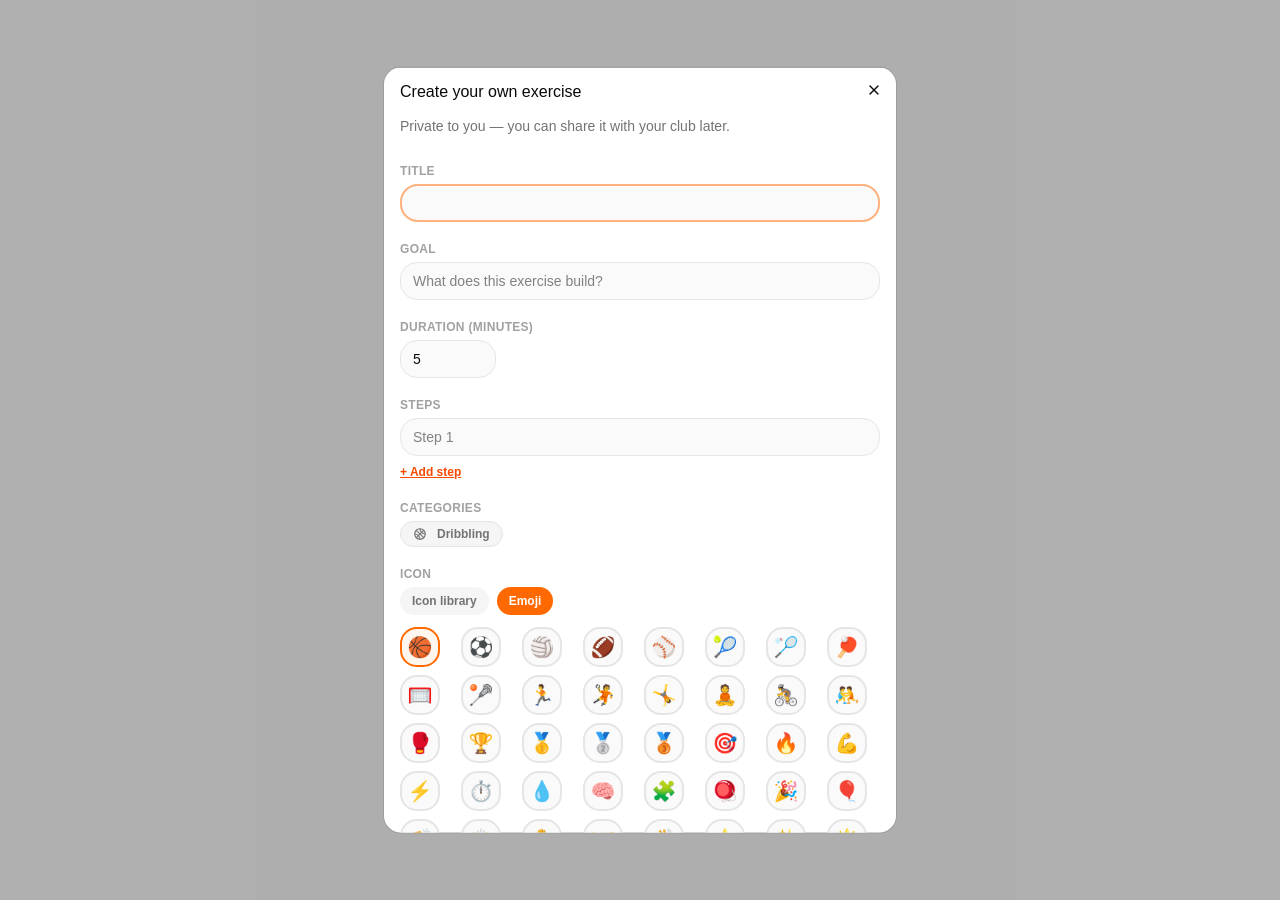
Test case: CreateExerciseDialog › disables Create until title, goal and a step are filled in
In the field labelled "Title": {"x": 640, "y": 202} [400,184,880,222], type "My drill"
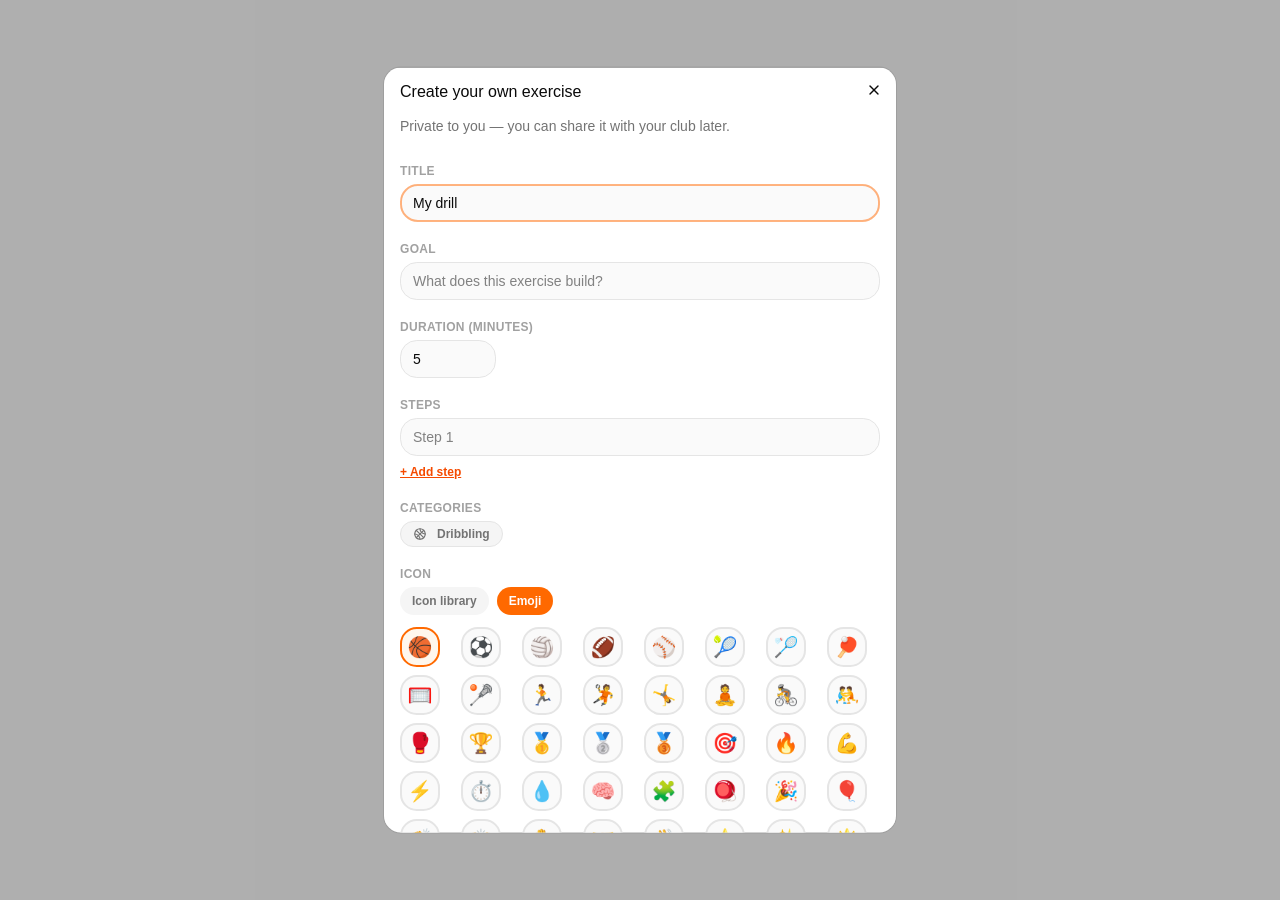
In the field labelled "Goal": {"x": 640, "y": 280} [400,262,880,300], type "Build something"
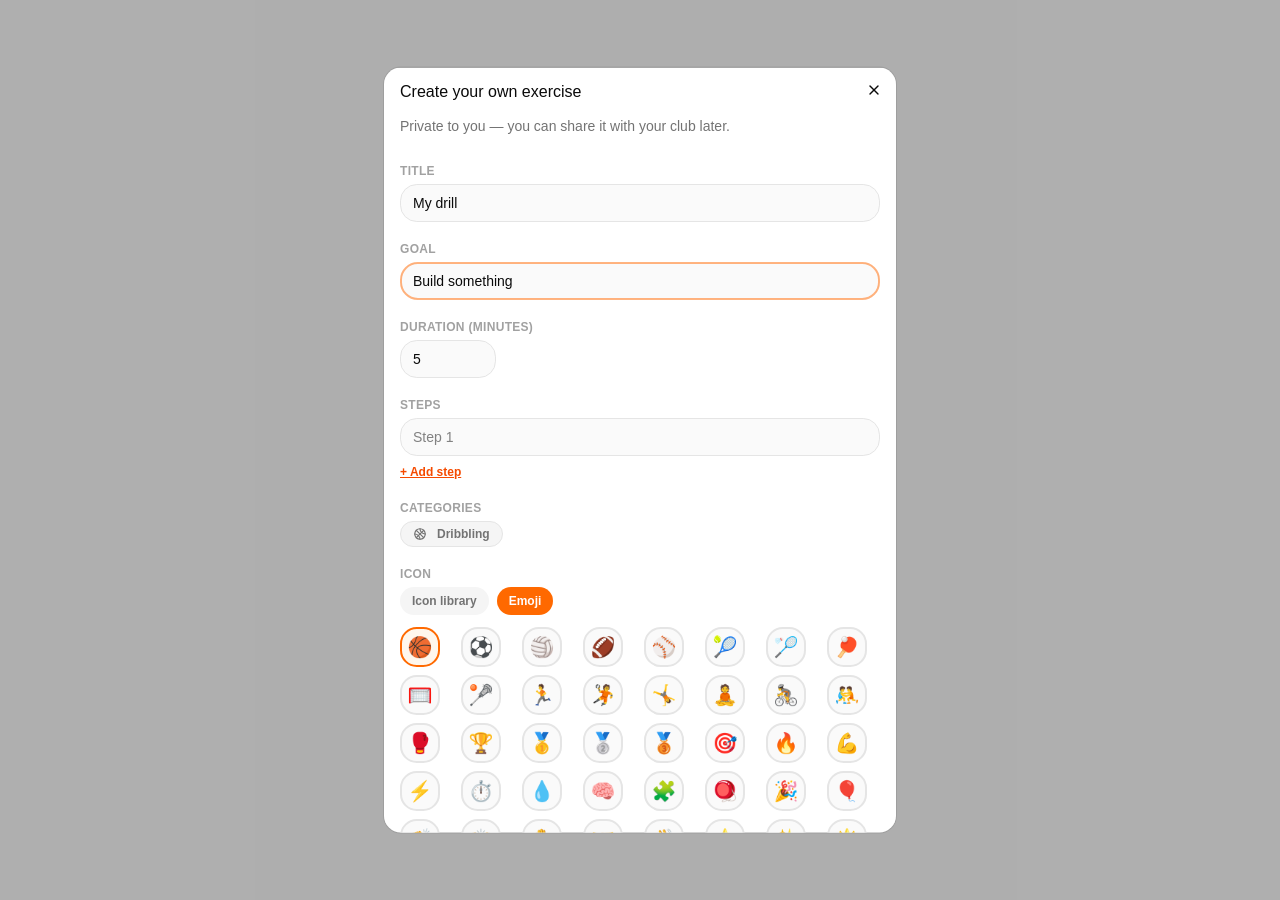
In the field with placeholder "Step 1": {"x": 640, "y": 436} [400,418,880,456], type "Do the thing"
(page scrolled)
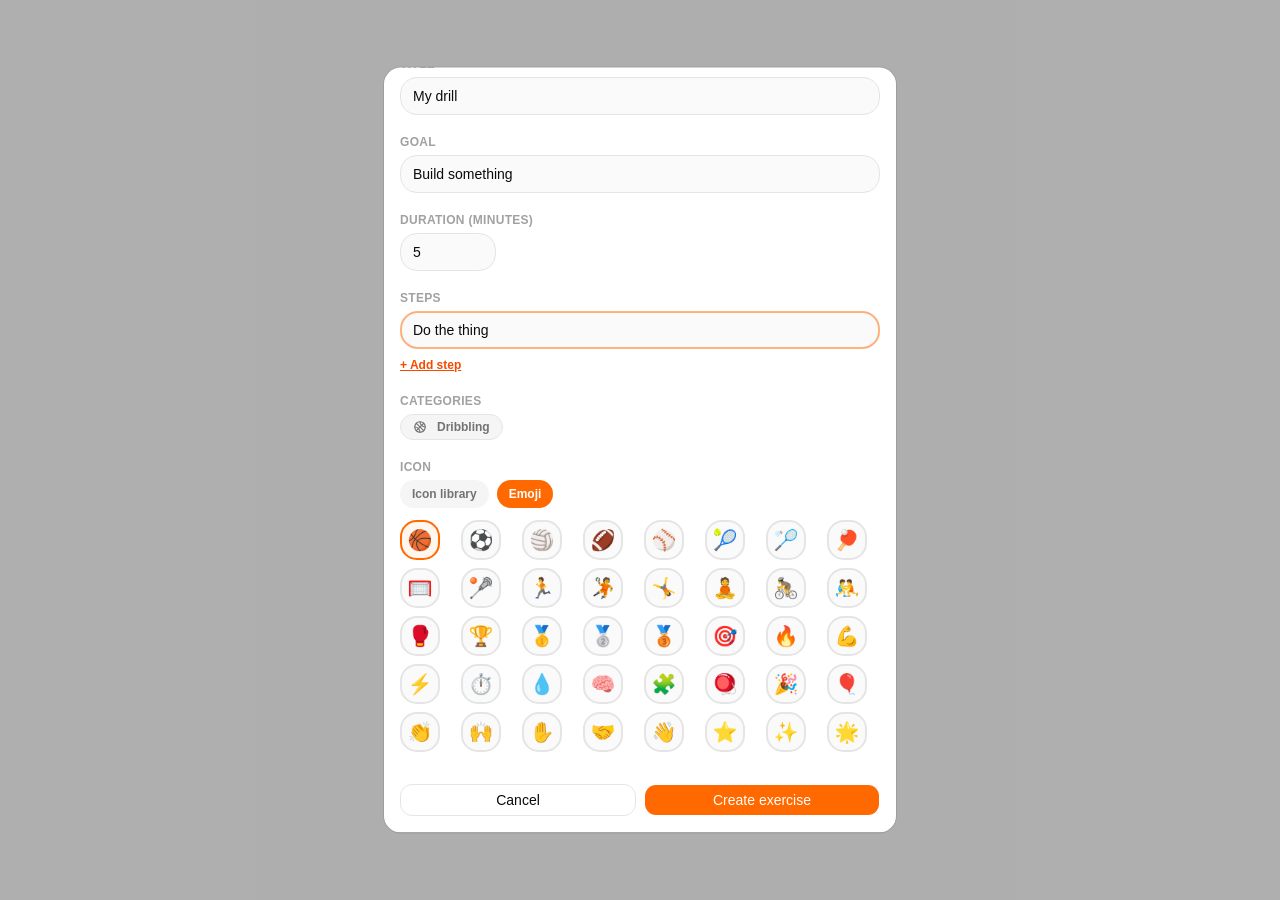
Check: the button "Create exercise" is enabled, box [644,784,880,816]
